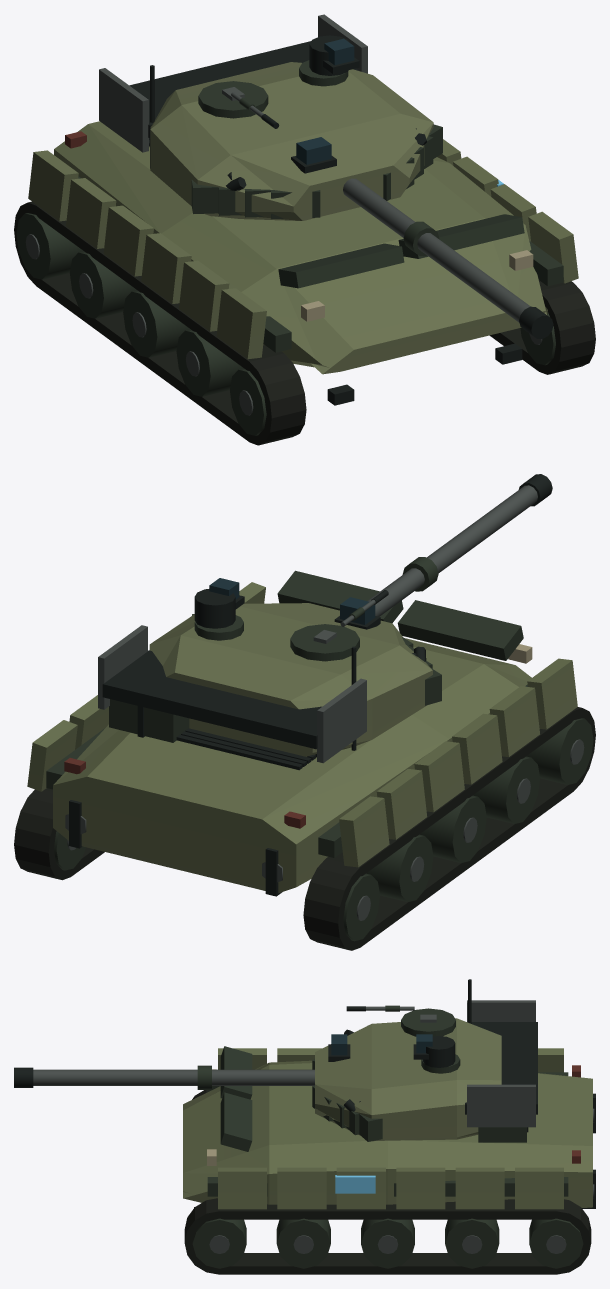
The model's file is tank-lod.glb.
3 views of the same model, one above another, from view 1: azimuth 30°, elevation 25°; view 2: azimuth 150°, elevation 25°; view 3: azimuth 270°, elevation 25° (orthographic). The views are drawn at different scales.
Parts seen in each view (by area): view 1: equipment (×3); view 2: equipment (×3); view 3: equipment (×3), marking.
Boxes of the visible parts, x1,y1,x2,y2 form: equipment (×3): (14,14,595,445); equipment (×3): (14,474,595,950); equipment (×3): (14,979,595,1274); marking: (335,1175,375,1193).
Size of the model in its own units: 3.74 by 2.67 by 7.17.
